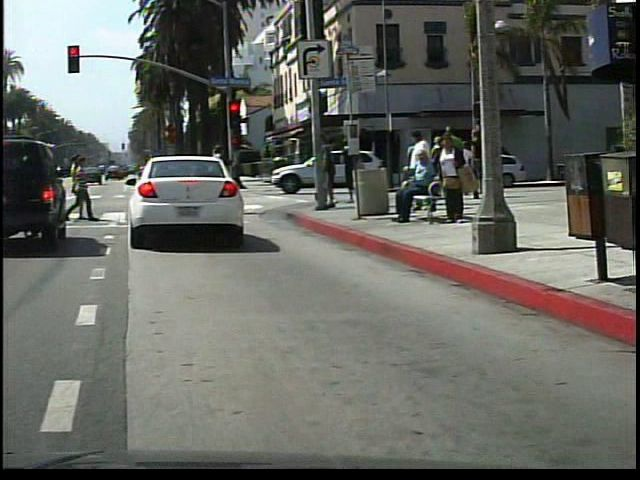person: (395, 151, 443, 227), (437, 131, 474, 229), (203, 138, 241, 219)
